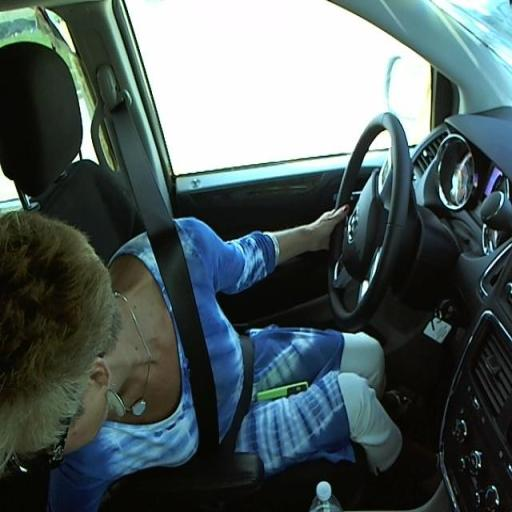turning: (7, 189, 390, 466)
